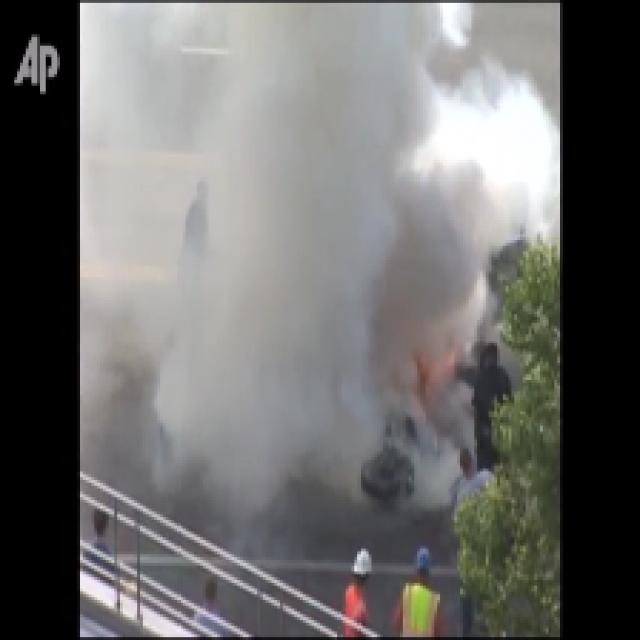smoke: (225, 25, 437, 458)
